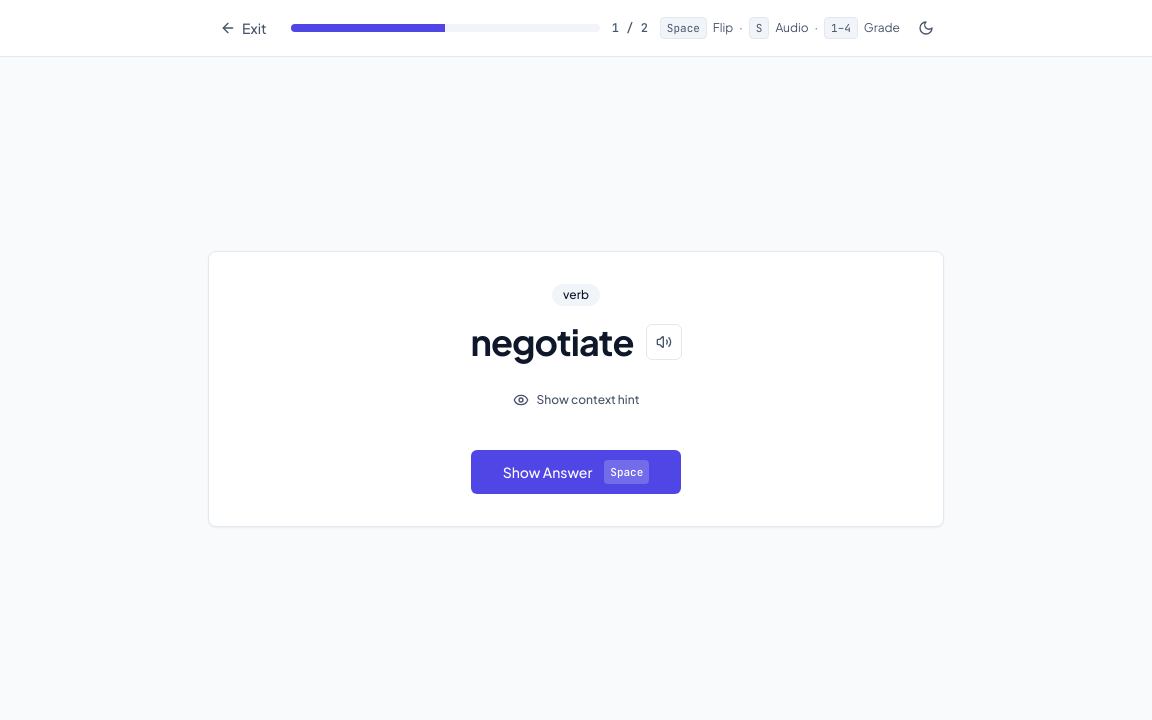
Test case: FlashcardReview › submits grade 2 (Good) on key '3' and shows session complete after all cards
This screenshot has width=1152, height=720.
# Card 1: Flip via button click, then press '3' for Good (grade 2)
Step 1. Click the button "Show Answer Space" → (576, 472), box [471, 450, 681, 494]
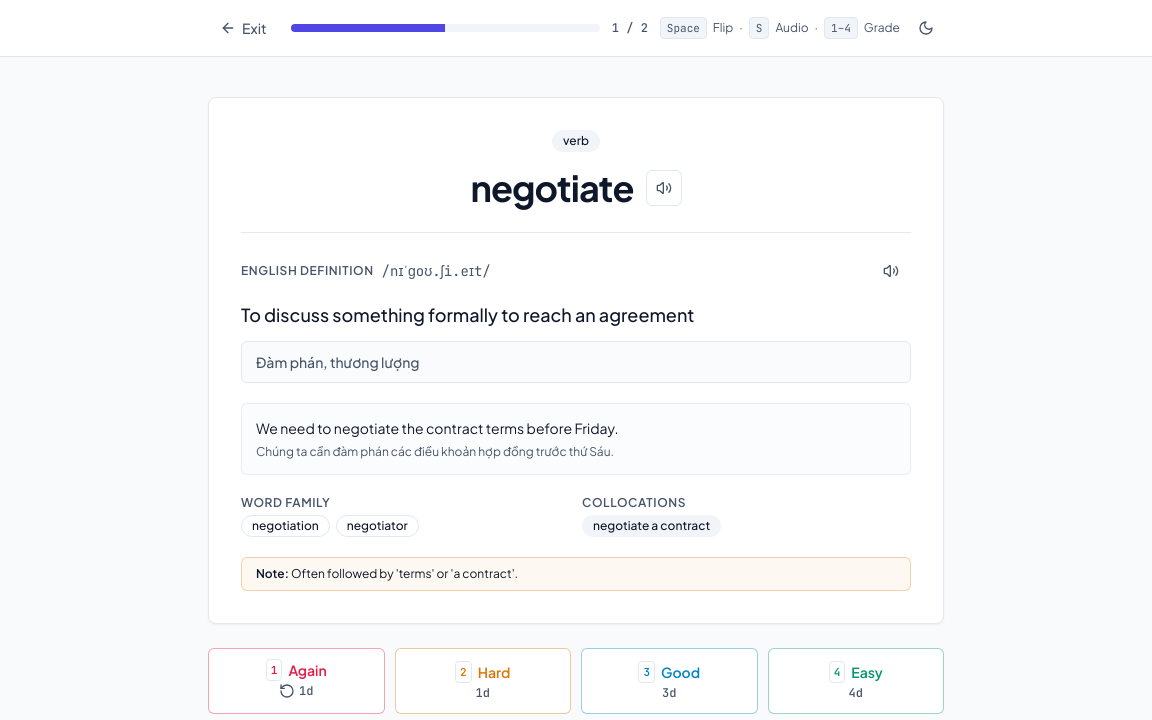
expect the text "To discuss something formally to reach an agreement" is shown: met, box [241, 303, 694, 326]
Step 2. Press 3
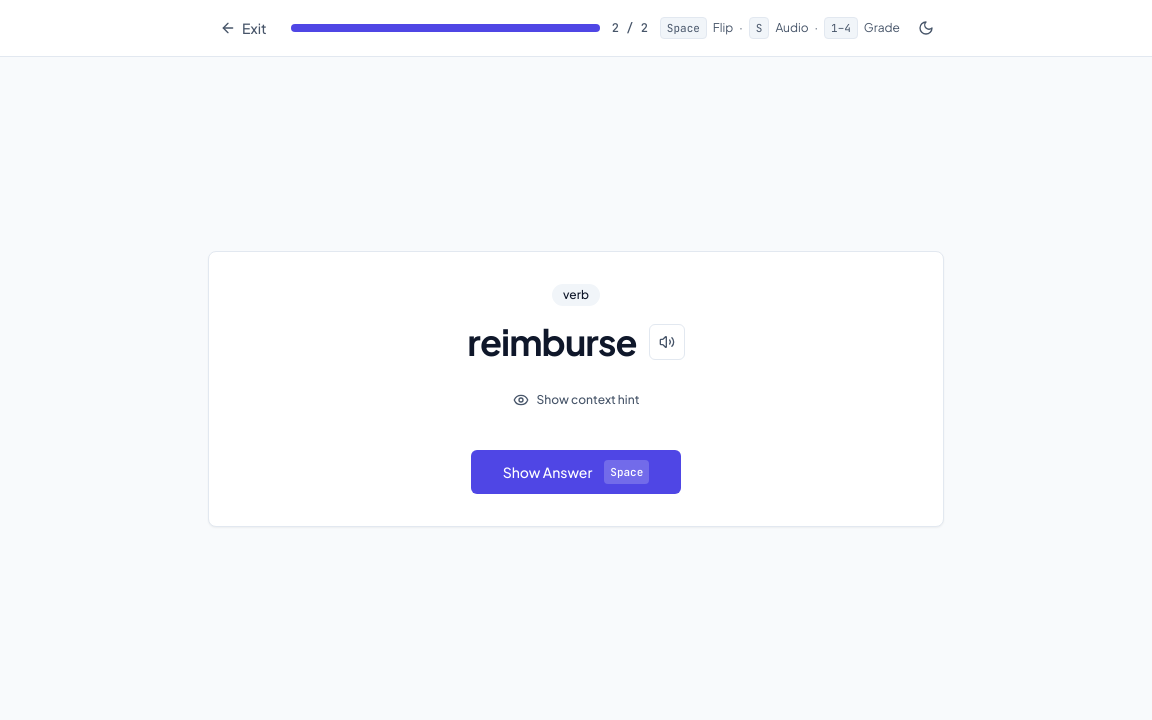
expect the heading "reimburse" is shown: met, box [467, 322, 637, 362]
expect the text "2 / 2" is shown: met, box [612, 20, 648, 36]
# Flip with Space and click Easy (grade 3)
Step 3. Press Space
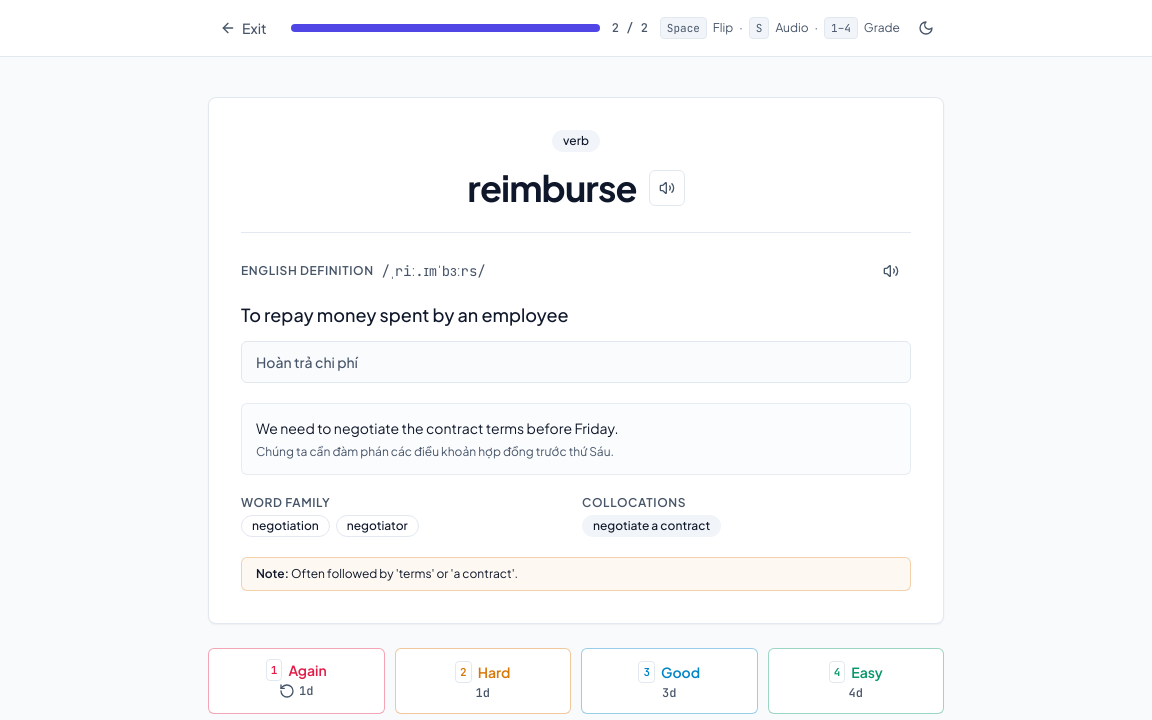
expect the text "Hoàn trả chi phí" is shown: met, box [256, 353, 358, 371]
Step 4. Click the button "4 Easy 4d" → (856, 681), box [768, 648, 944, 714]
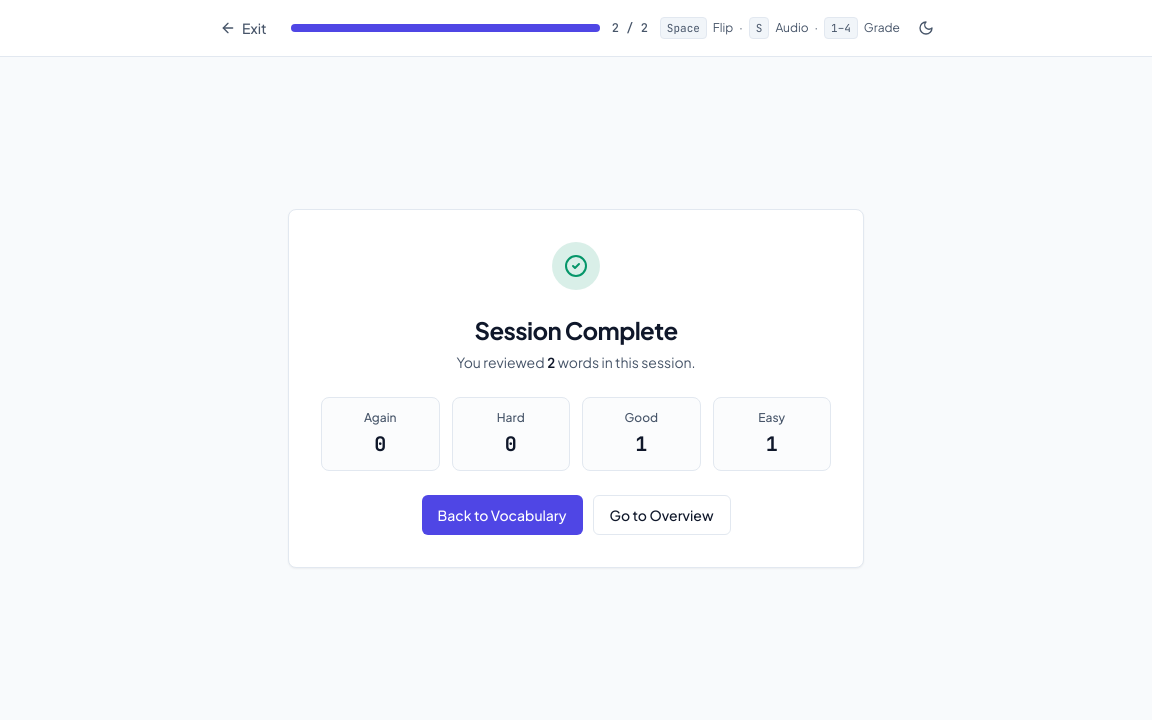
expect the heading "Session Complete" is shown: met, box [474, 315, 678, 345]
